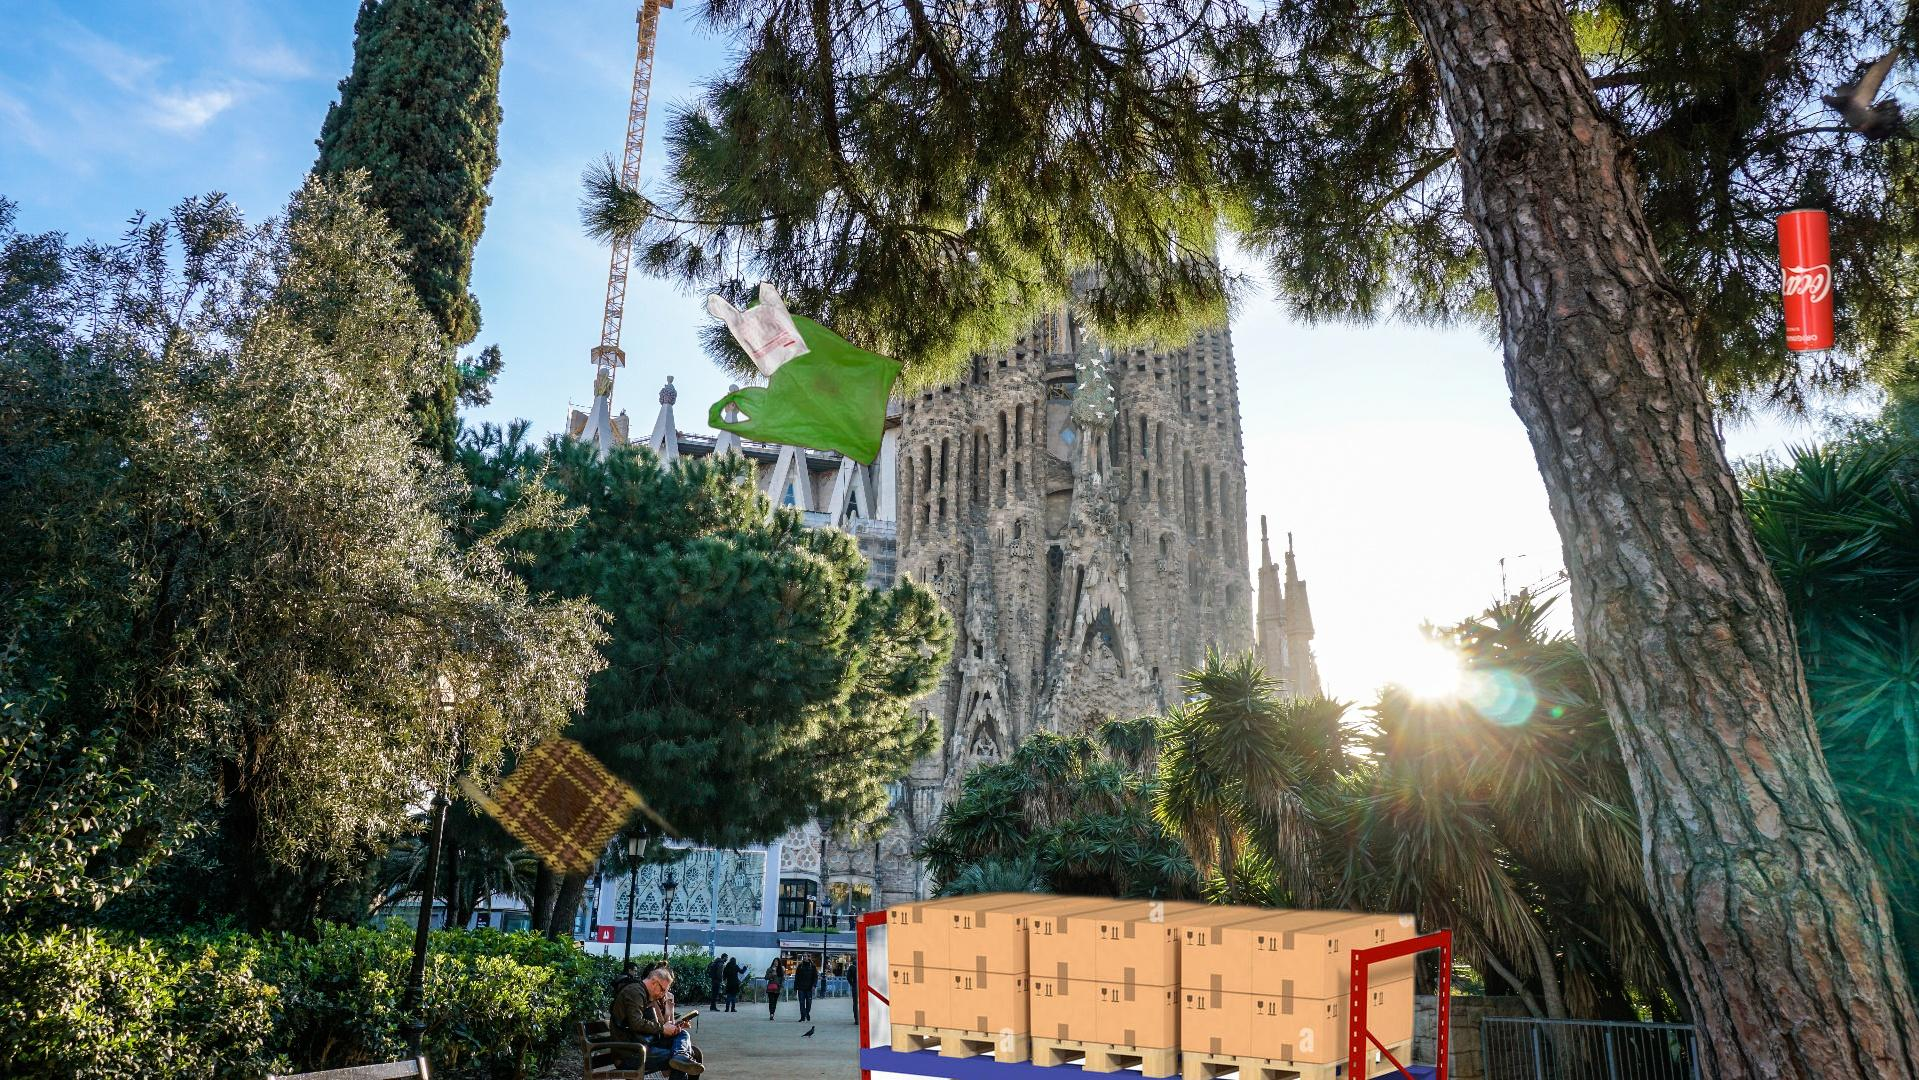metal-cans: (1771, 203, 1839, 357)
plastic-bag: (704, 278, 905, 469)
plastic-bottles: (244, 375, 757, 1058)
trashbox-cardboard: (720, 789, 1460, 1080), (308, 595, 847, 955)
